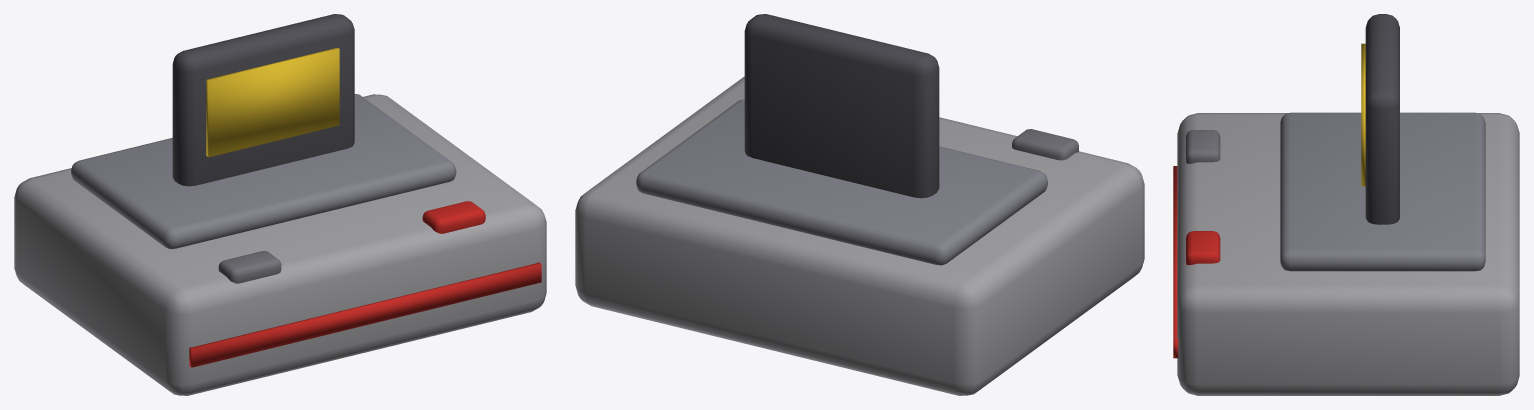
The model's file is console_retro.glb.
3 views of the same model, side by side, from view 1: azimuth 30°, elevation 25°; view 2: azimuth 150°, elevation 25°; view 3: azimuth 270°, elevation 25° (orthographic). The views are drawn at different scales.
Visible parts, largest first — view 1: console_retro; view 2: console_retro; view 3: console_retro.
Part boxes in pixels (bbox=[...]): console_retro: bbox=[14, 14, 546, 395]; console_retro: bbox=[575, 14, 1144, 395]; console_retro: bbox=[1173, 14, 1519, 395].
Size of the model in its own units: 0.26 by 0.165 by 0.2025.
